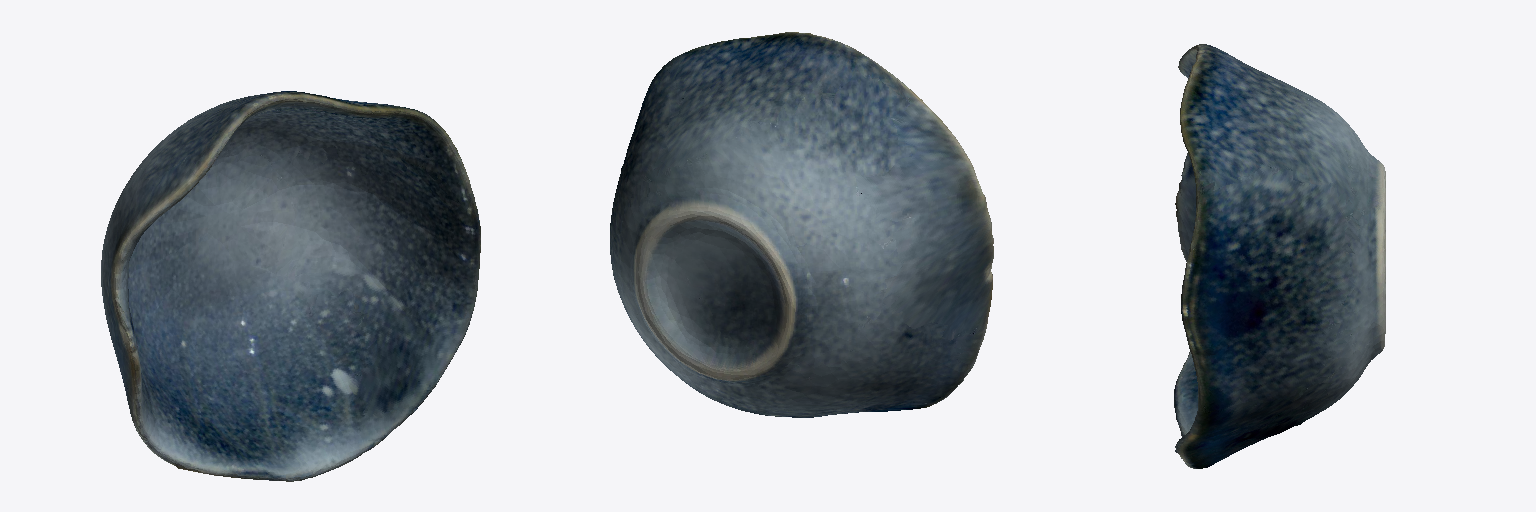
3 views of the same model, side by side, from view 1: azimuth 30°, elevation 25°; view 2: azimuth 150°, elevation 25°; view 3: azimuth 270°, elevation 25° (orthographic).
Bounding box in the file's own units: 109 × 110 × 54.76.
Materials: 1 (1 with a texture image).